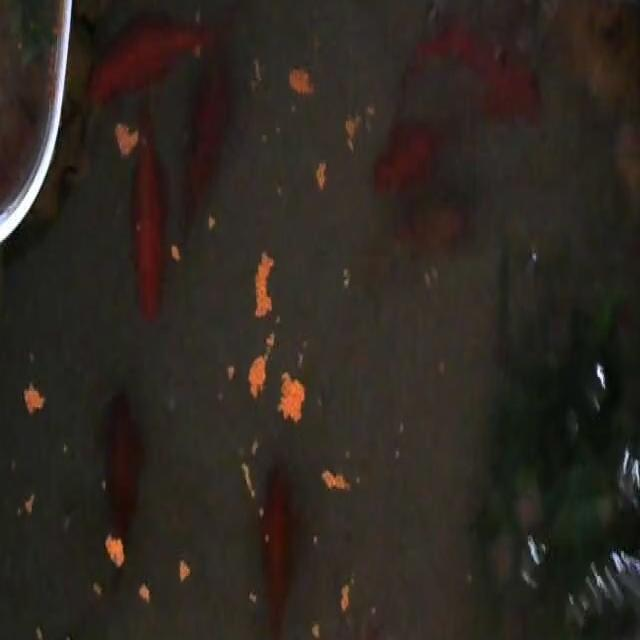fish: (411, 17, 544, 126), (84, 8, 222, 108), (183, 32, 238, 246), (98, 386, 144, 575), (130, 112, 168, 326), (258, 460, 301, 640), (372, 118, 438, 200), (392, 200, 462, 254)
